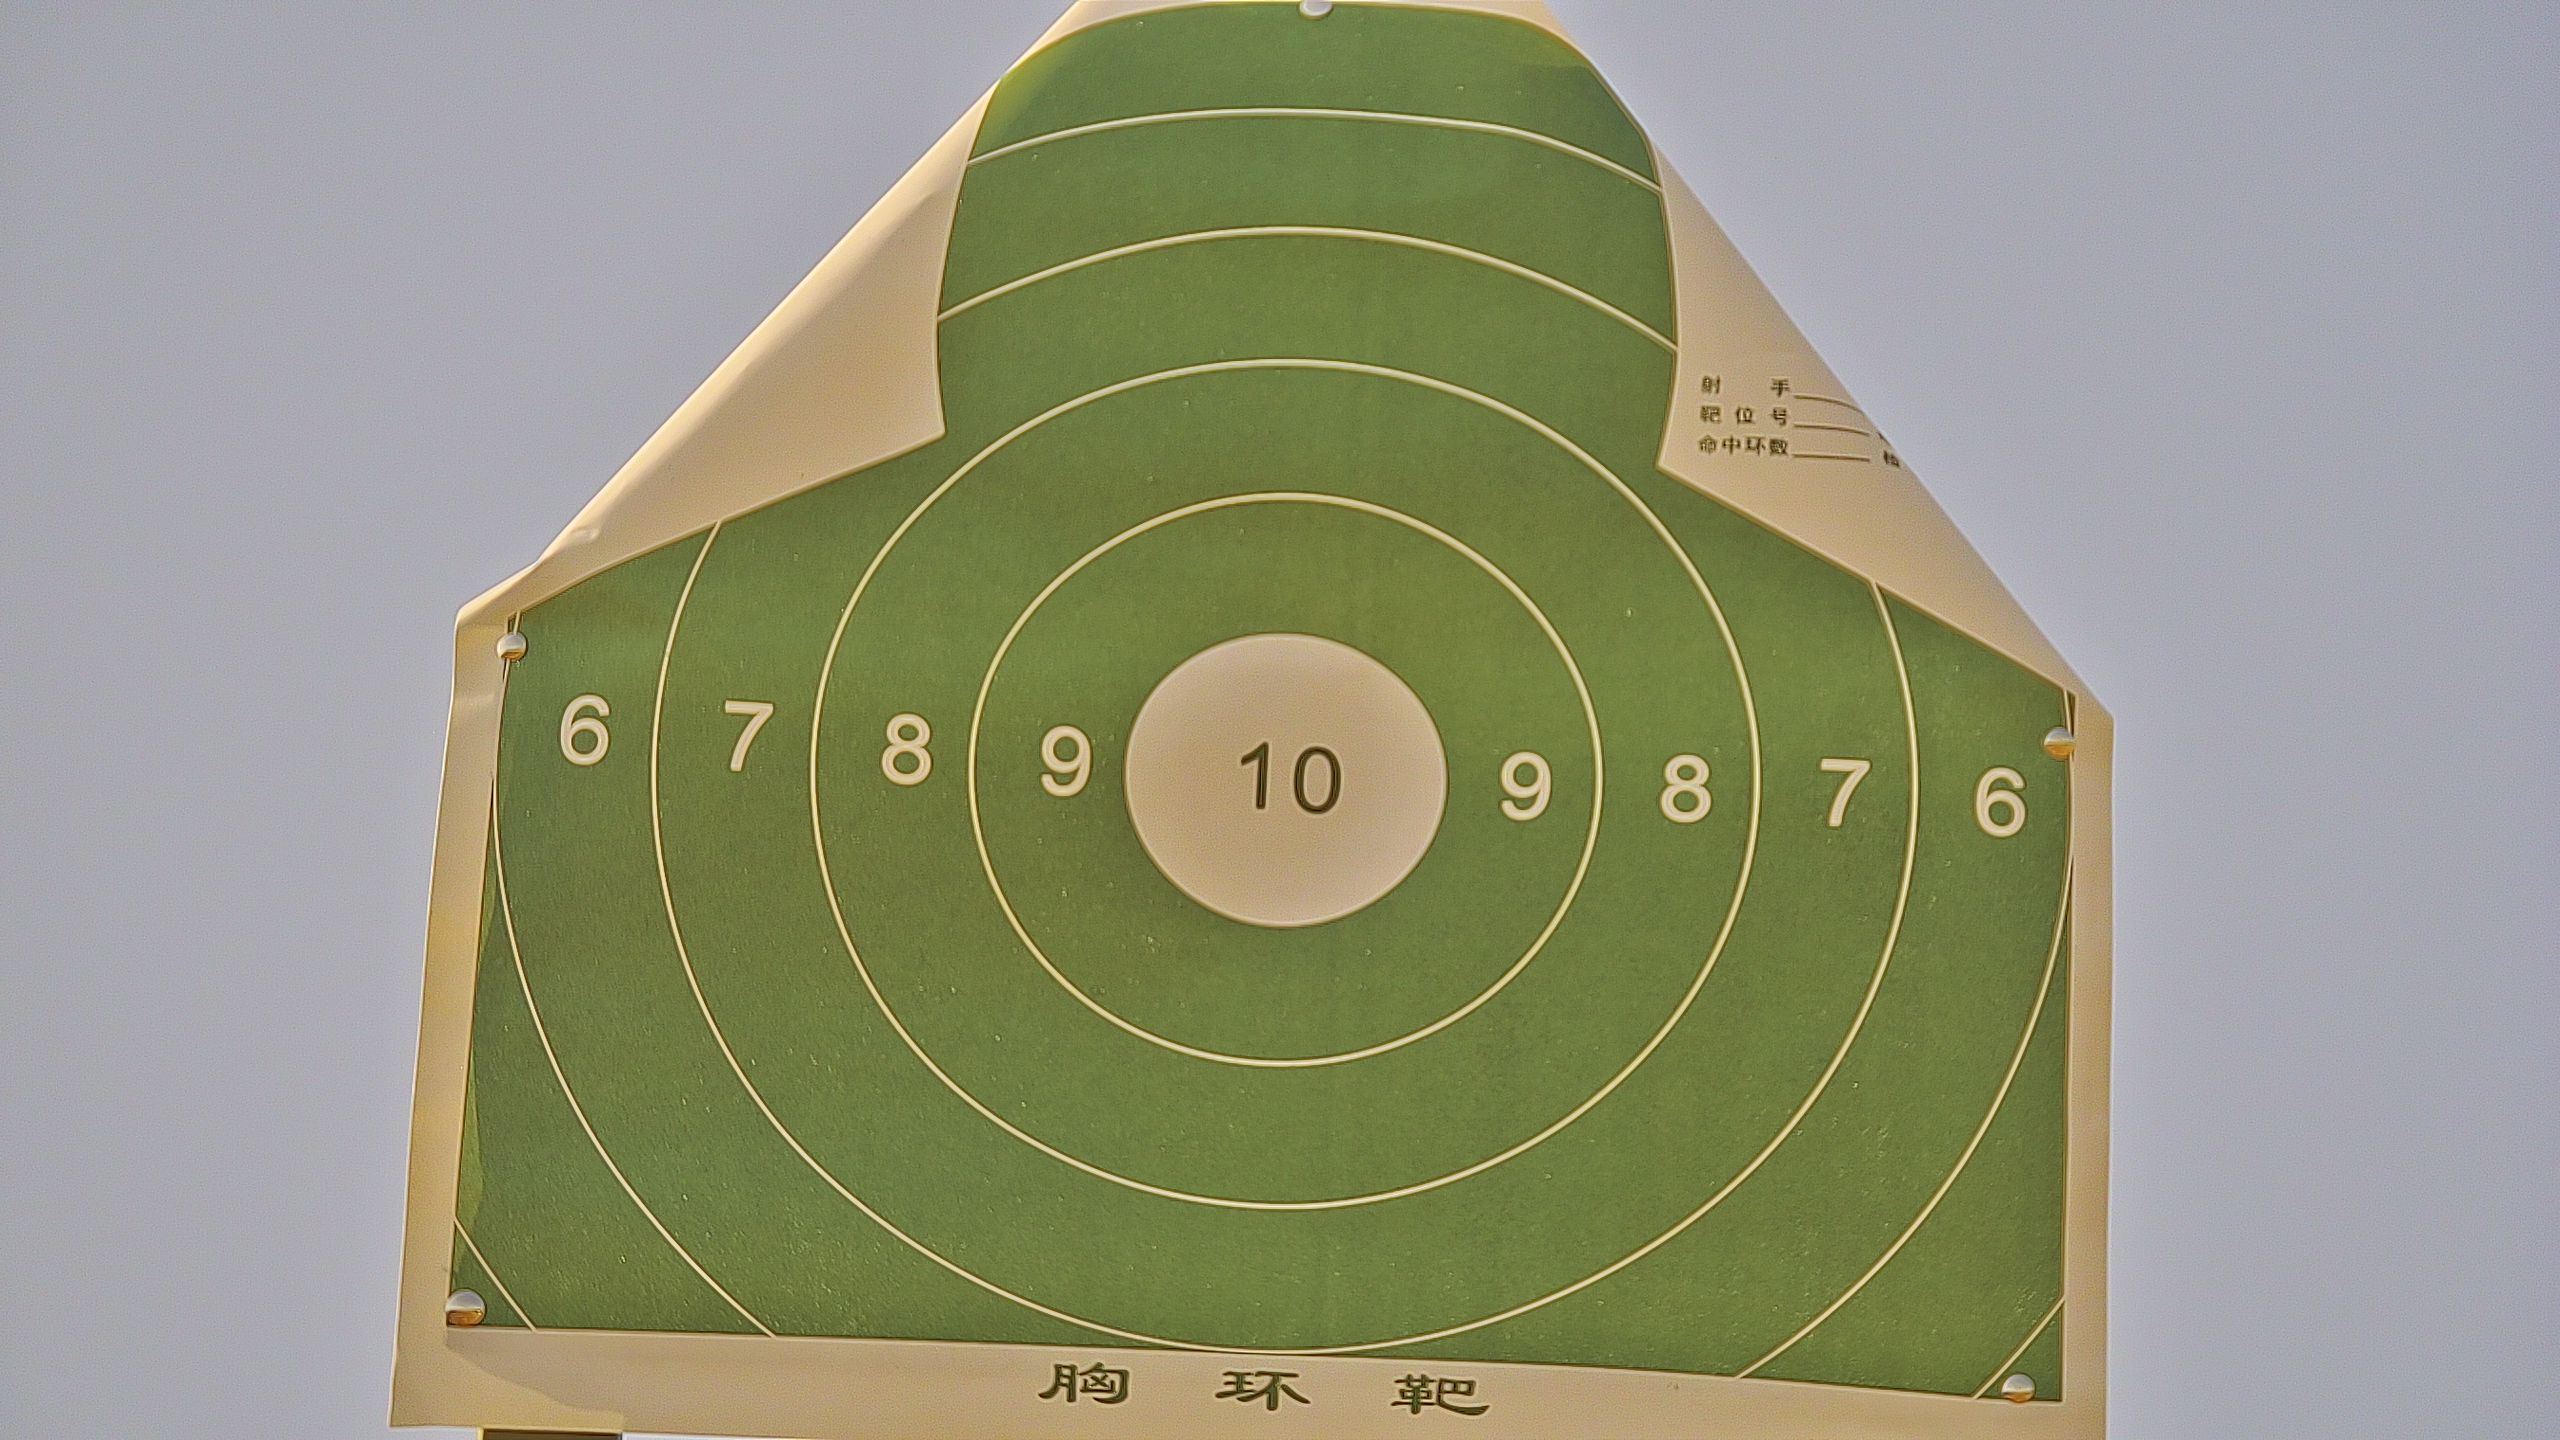kernel: (1284, 774, 1289, 781)
target: (441, 11, 2078, 1405)
ten: (1122, 631, 1447, 928)
